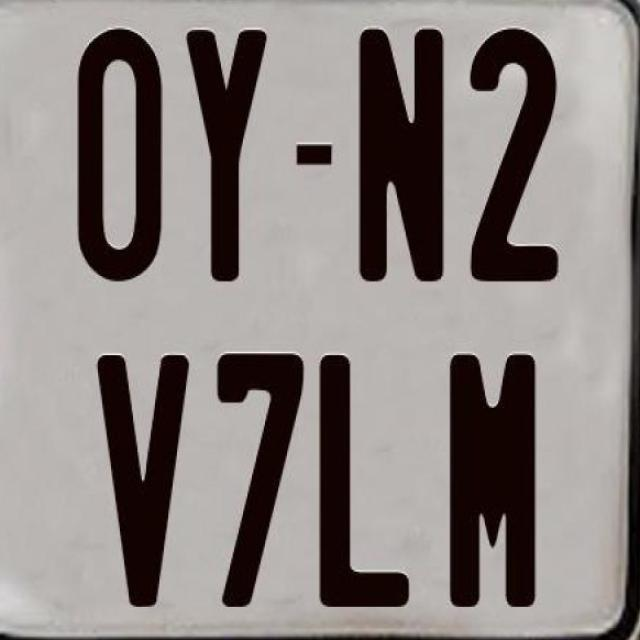license-plate: (7, 0, 626, 640)
